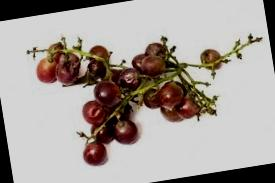Grape Rotten: (26, 4, 275, 173)
